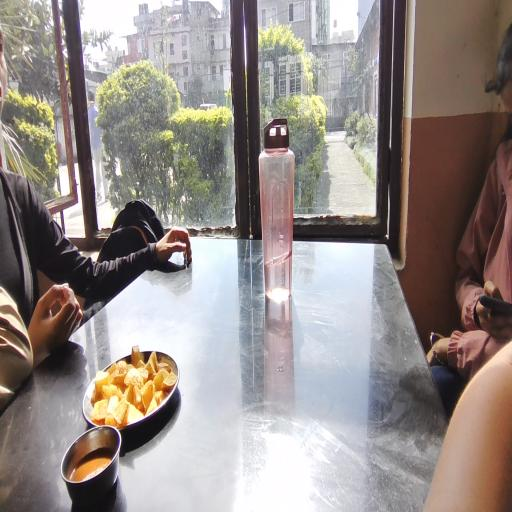Bottle: (255, 93, 312, 334)
